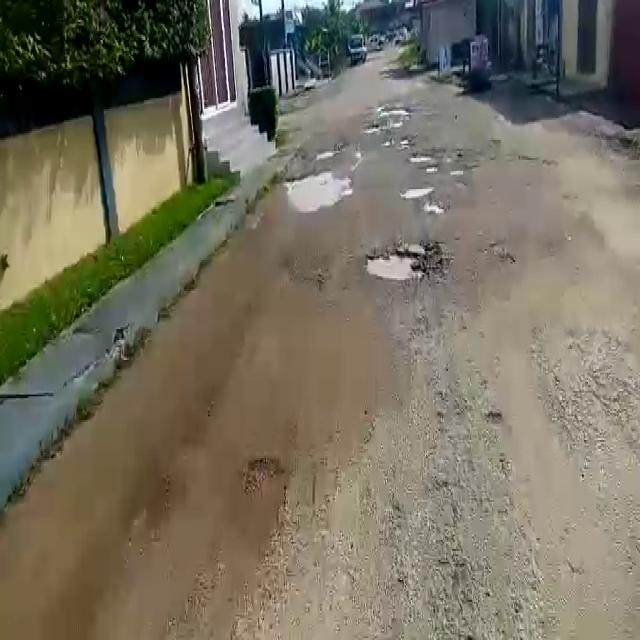Pothole: (275, 168, 352, 212), (363, 241, 442, 281), (247, 454, 284, 492), (399, 182, 435, 198)
